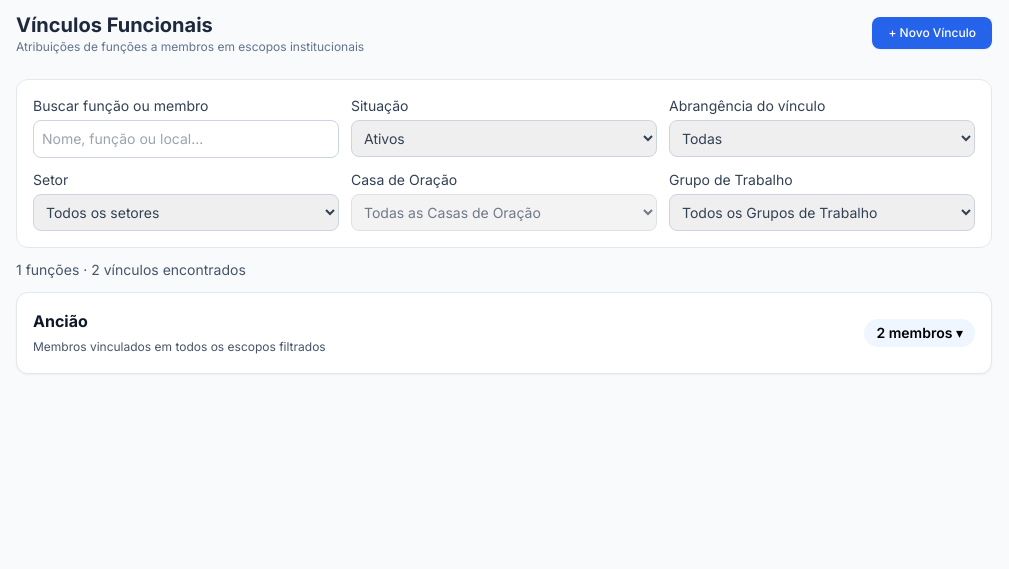
Test case: S02-B2 — VinculosFuncionaisView (Frontend) › 1b. Agrupa a mesma função em Casas distintas no mesmo card
Expected: the text "2 membros ▾" is shown, x1=864 y1=319 x2=975 y2=347
Expected: the text "1 funções · 2 vínculos encontrados" is shown, x1=16 y1=261 x2=246 y2=278
Click the heading that starts with "Ancião".
click(60, 321)  # box x1=33 y1=311 x2=975 y2=354
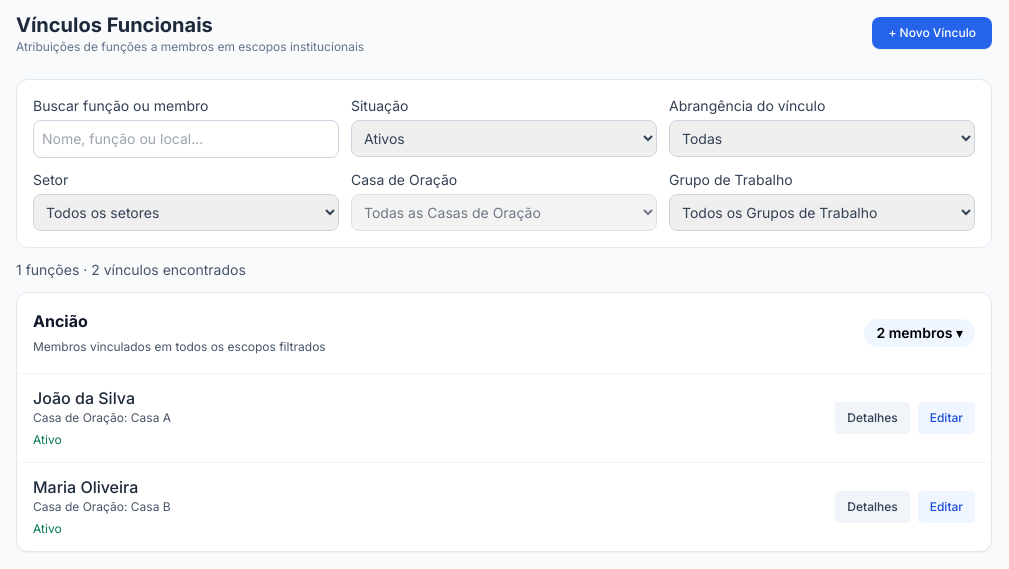
Result: the text "João da Silva" is shown at x1=33 y1=388 x2=135 y2=408
Result: the text "Maria Oliveira" is shown at x1=33 y1=477 x2=138 y2=497
Result: the text "Casa de Oração: Casa A" is shown at x1=33 y1=410 x2=171 y2=426
